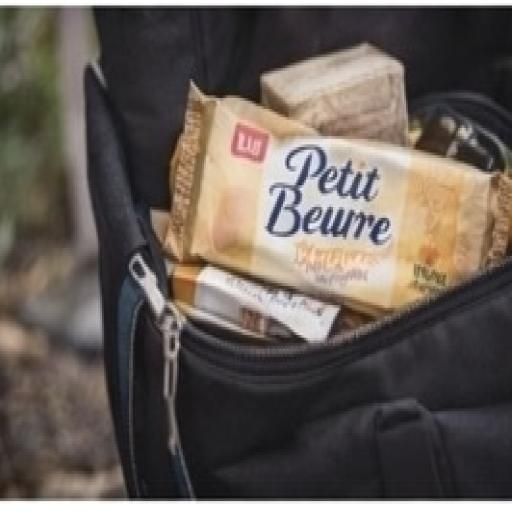petit_beurre: (131, 41, 512, 370)
